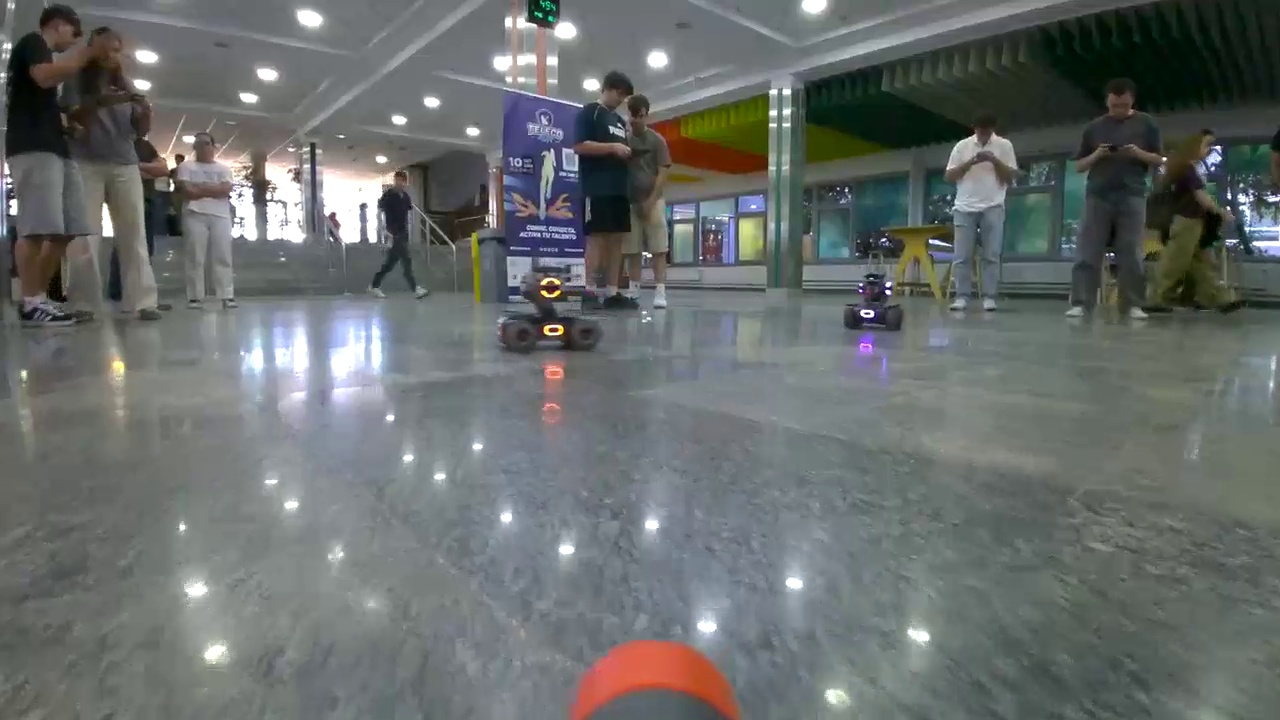robot: (500, 272, 602, 349), (843, 272, 904, 331)
